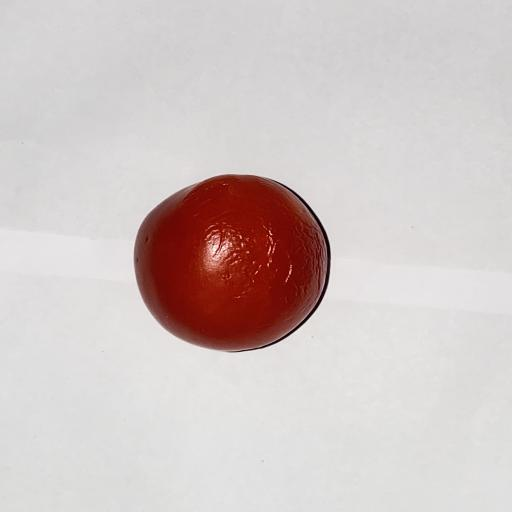overipe: (134, 175, 327, 351)
